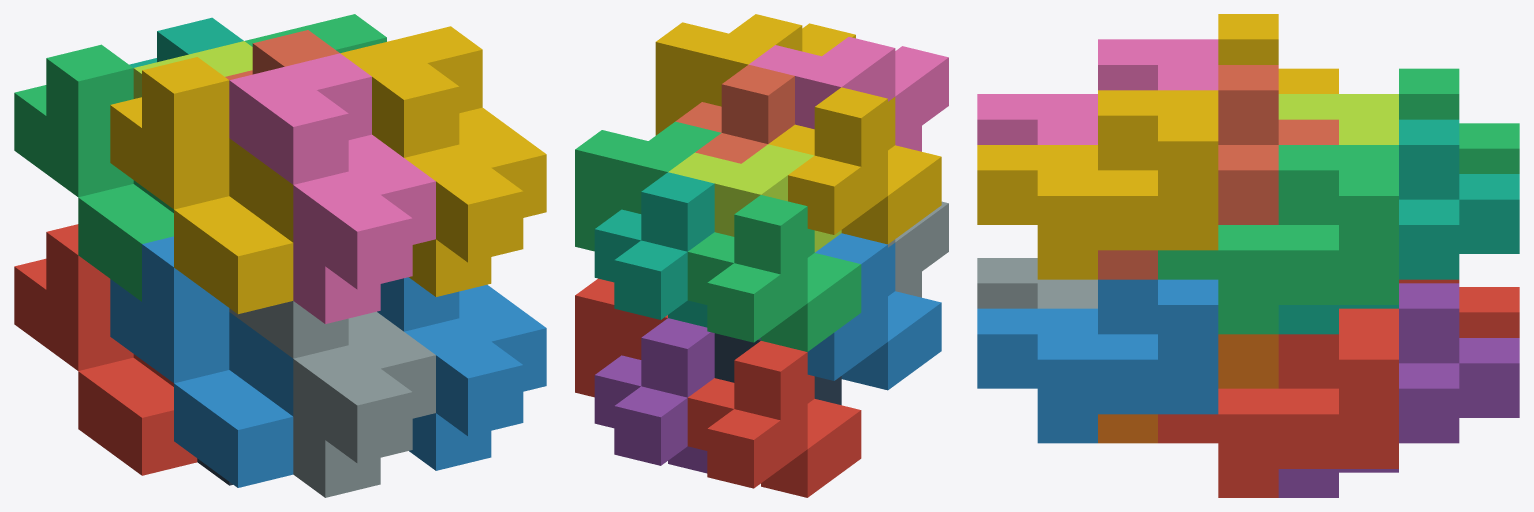
File: tiling.obj
3 views of the same model, side by side, from view 1: azimuth 30°, elevation 25°; view 2: azimuth 150°, elevation 25°; view 3: azimuth 270°, elevation 25° (orthographic). The views are drawn at different scales.
Visible parts, largest first — view 1: copy_2_domain_4, copy_2_domain_8, copy_1_domain_4, copy_1_domain_2, copy_2_domain_2, copy_1_domain_3, copy_1_domain_1, copy_2_domain_6, copy_1_domain_8, copy_1_domain_7, copy_2_domain_7, copy_2_domain_3; view 2: copy_1_domain_1, copy_1_domain_3, copy_1_domain_4, copy_1_domain_7, copy_1_domain_5, copy_1_domain_2, copy_2_domain_4, copy_2_domain_8, copy_2_domain_7, copy_1_domain_8, copy_2_domain_3, copy_2_domain_5 (+2 smaller); view 3: copy_2_domain_8, copy_2_domain_6, copy_2_domain_7, copy_2_domain_5, copy_1_domain_7, copy_1_domain_5, copy_1_domain_8, copy_2_domain_4, copy_1_domain_3, copy_1_domain_6, copy_2_domain_2, copy_1_domain_4 (+2 smaller).
Boxes of the visible parts, x1=… form: copy_2_domain_4: x1=229, y1=53, x2=435, y2=323; copy_2_domain_8: x1=340, y1=26, x2=546, y2=296; copy_1_domain_4: x1=110, y1=57, x2=293, y2=314; copy_1_domain_2: x1=110, y1=236, x2=293, y2=487; copy_2_domain_2: x1=229, y1=301, x2=435, y2=497; copy_1_domain_3: x1=14, y1=44, x2=173, y2=301; copy_1_domain_1: x1=14, y1=224, x2=197, y2=475; copy_2_domain_6: x1=377, y1=277, x2=546, y2=470; copy_1_domain_8: x1=225, y1=30, x2=339, y2=80; copy_1_domain_7: x1=129, y1=17, x2=243, y2=67; copy_2_domain_7: x1=244, y1=14, x2=386, y2=53; copy_2_domain_3: x1=133, y1=41, x2=252, y2=98; copy_1_domain_1: x1=687, y1=341, x2=861, y2=497; copy_1_domain_3: x1=687, y1=195, x2=861, y2=351; copy_1_domain_4: x1=768, y1=87, x2=941, y2=244; copy_1_domain_7: x1=594, y1=172, x2=714, y2=327; copy_1_domain_5: x1=594, y1=318, x2=714, y2=473; copy_1_domain_2: x1=807, y1=233, x2=941, y2=390; copy_2_domain_4: x1=749, y1=37, x2=948, y2=151; copy_2_domain_8: x1=655, y1=14, x2=855, y2=135; copy_2_domain_7: x1=575, y1=121, x2=721, y2=251; copy_1_domain_8: x1=675, y1=64, x2=794, y2=163; copy_2_domain_3: x1=668, y1=144, x2=841, y2=252; copy_2_domain_5: x1=575, y1=278, x2=667, y2=397; copy_2_domain_8: x1=977, y1=90, x2=1218, y2=279; copy_2_domain_6: x1=977, y1=279, x2=1218, y2=443; copy_2_domain_7: x1=1158, y1=145, x2=1398, y2=334; copy_2_domain_5: x1=1158, y1=308, x2=1398, y2=497; copy_1_domain_7: x1=1278, y1=119, x2=1519, y2=334; copy_1_domain_5: x1=1278, y1=283, x2=1519, y2=497; copy_1_domain_8: x1=1098, y1=65, x2=1338, y2=279; copy_2_domain_4: x1=977, y1=39, x2=1218, y2=144; copy_1_domain_3: x1=1399, y1=68, x2=1519, y2=173; copy_1_domain_6: x1=1098, y1=334, x2=1278, y2=443; copy_2_domain_2: x1=977, y1=258, x2=1097, y2=308; copy_1_domain_4: x1=1218, y1=14, x2=1338, y2=93.
Bounding box in the file's own units: 5 × 7 × 9.
